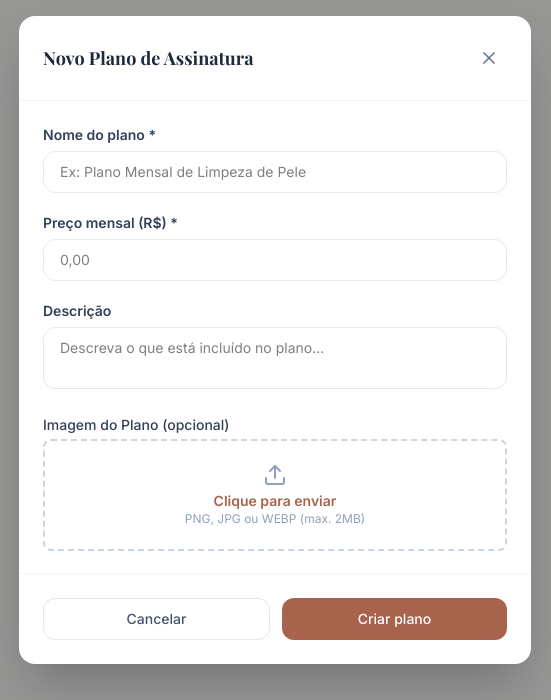
Test: components/SubscriptionPlanModal — validações client-side › bloqueia salvar com nome vazio
Click the button "Criar plano" at (394,619), box [282,598,507,640]
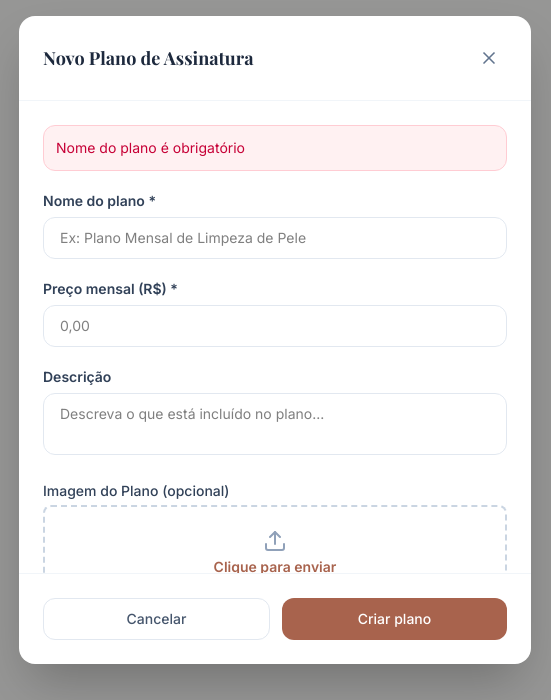
Now the text "Nome do plano é obrigatório" is shown, box [43,125,507,171]
